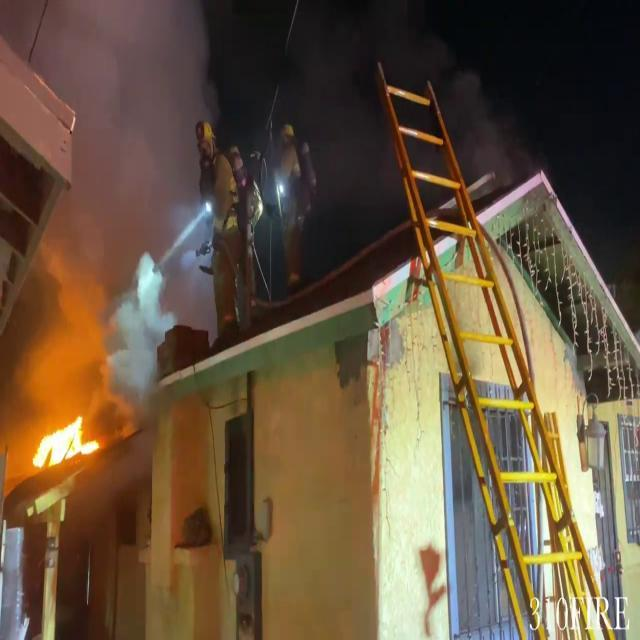Fire: (24, 406, 100, 474)
Smoke: (26, 3, 230, 398)
